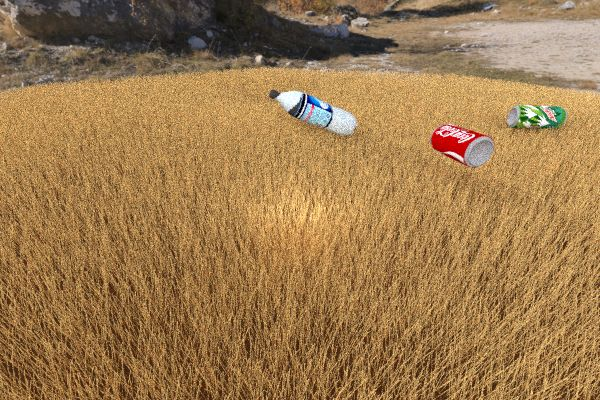Plastic Bottle: (269, 89, 357, 136), (430, 124, 494, 167), (507, 105, 567, 129)
